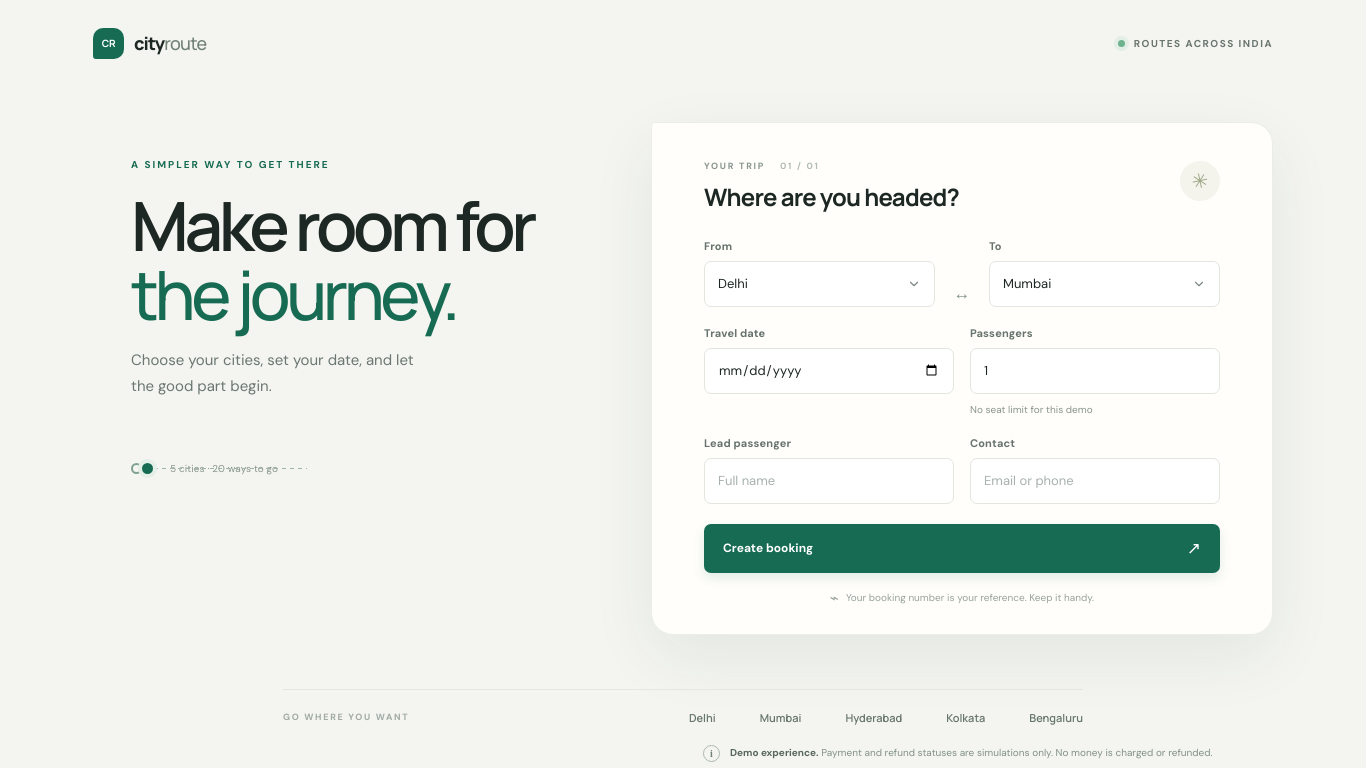
Test: booking interface › shows the opaque booking reference and current booking, payment, and refund statuses
The image size is (1366, 768).
Type "2027-03-14" into the date field labelled "Travel date". click: (829, 371)
box: [704, 348, 954, 394]
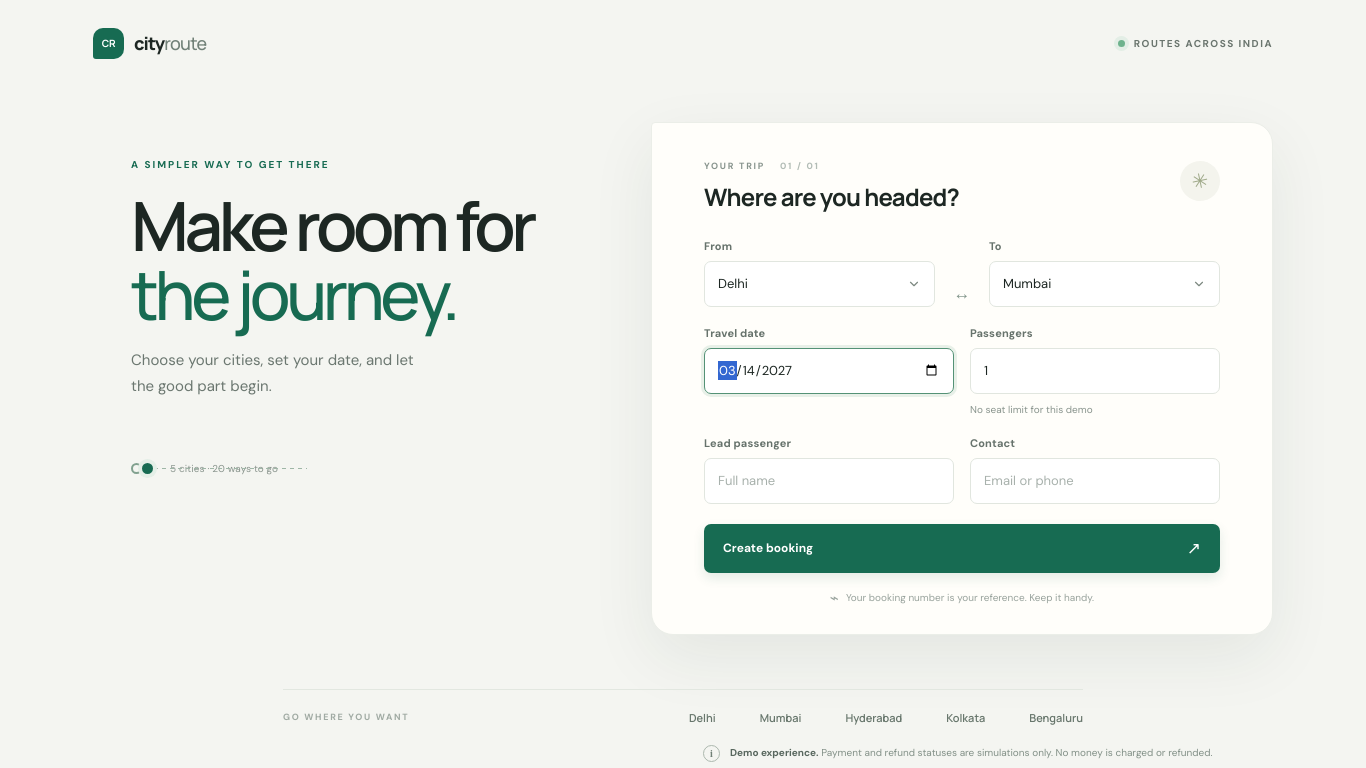
Type "Ada Lovelace" into the field labelled "Lead passenger". click: (829, 481)
box: [704, 458, 954, 504]
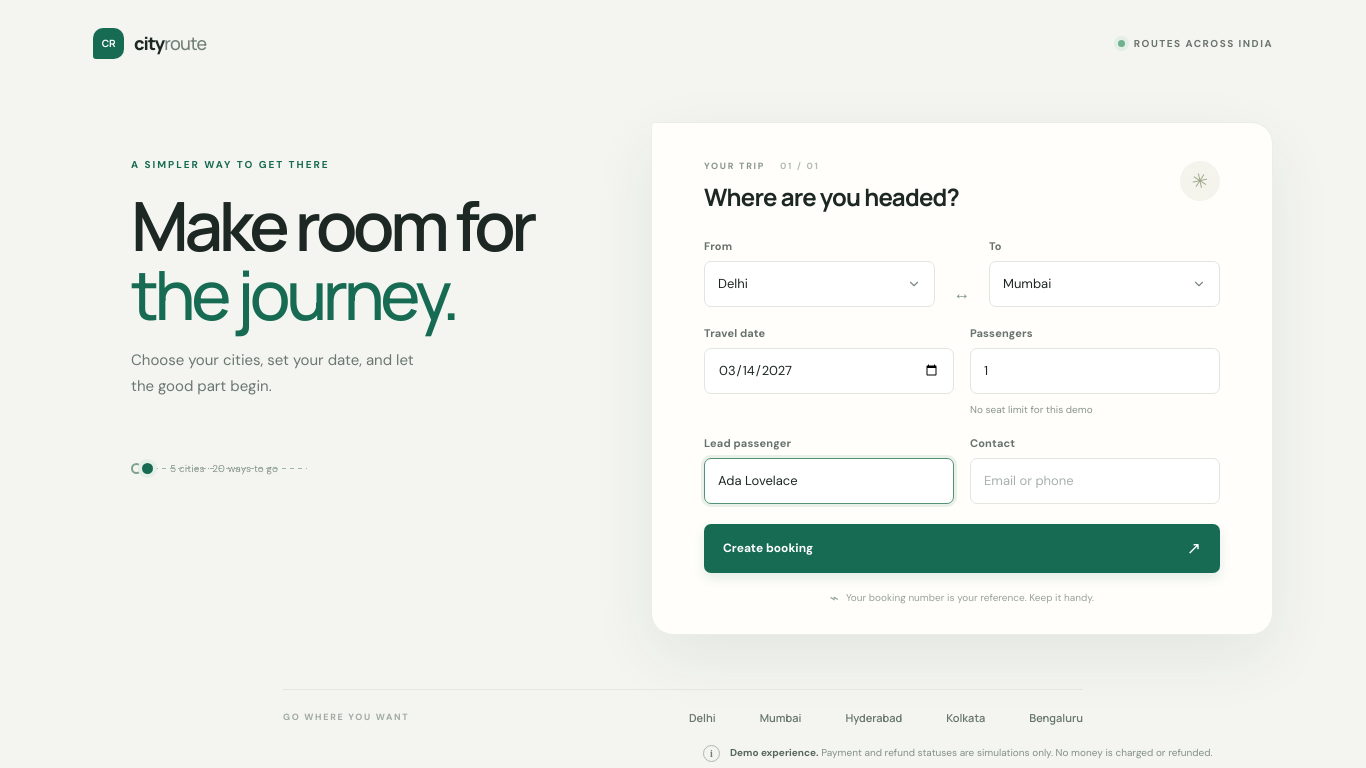
Type "ada@example.test" into the field labelled "Contact". click: (1095, 481)
box: [970, 458, 1220, 504]
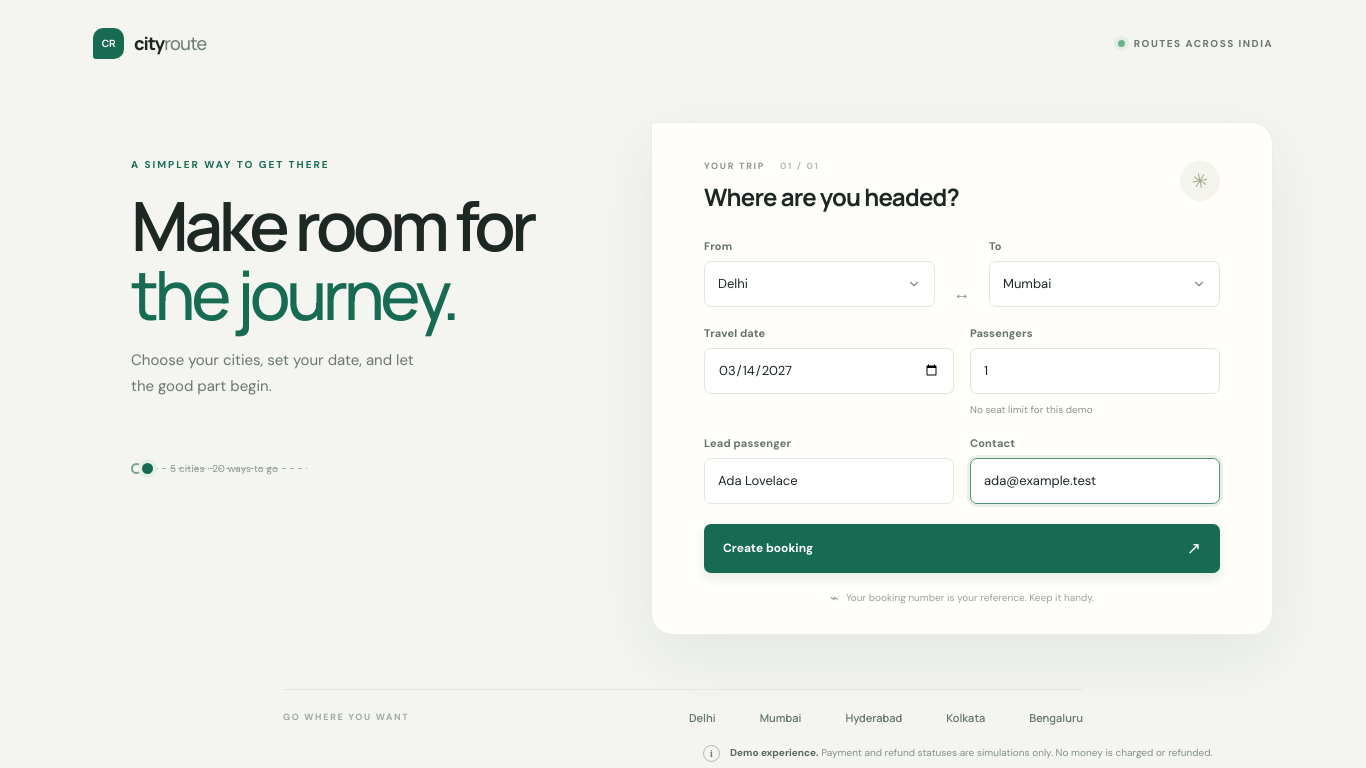
Click the button "Create booking ↗". click: (768, 548)
box: [704, 524, 1220, 573]
(page scrolled)
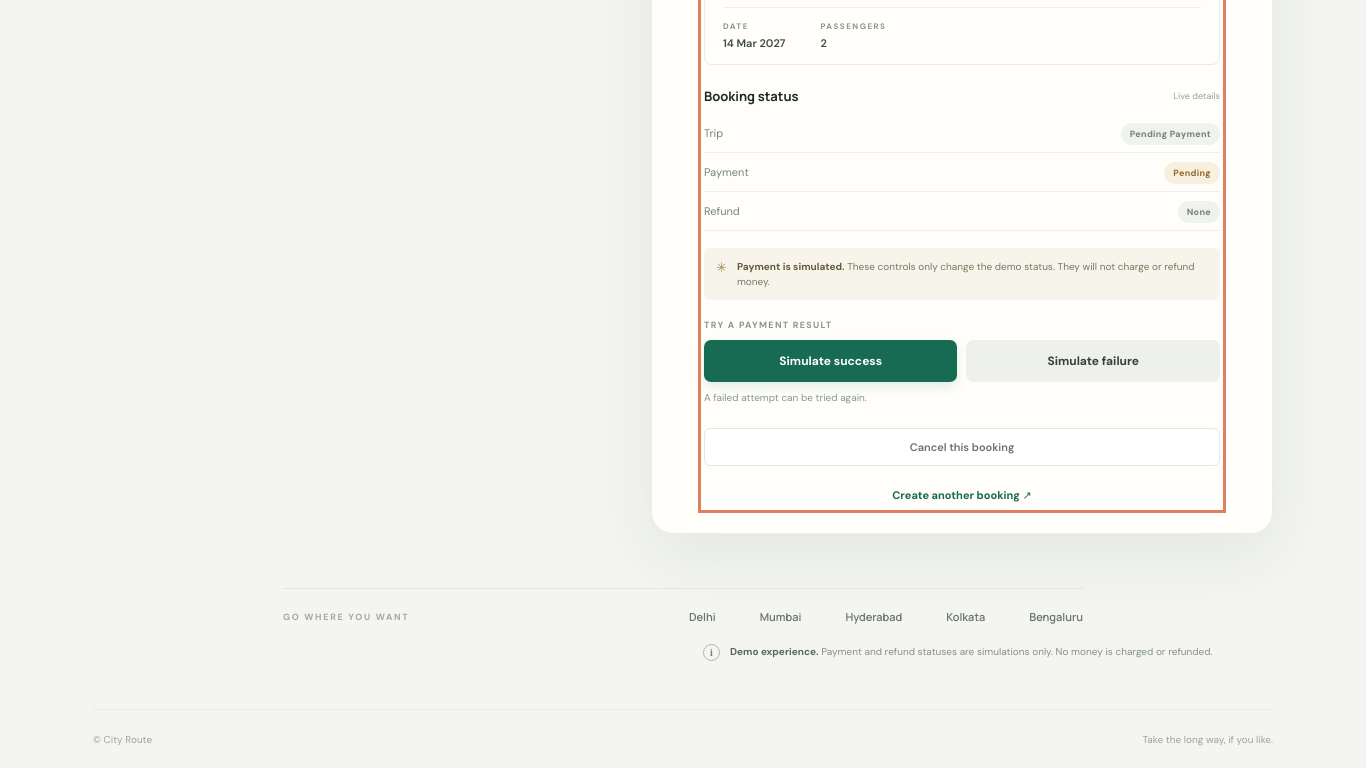
Expected: the text "Pending Payment" is shown, [1121, 123, 1220, 145]
Expected: the text "Pending" is shown, [1164, 162, 1220, 184]
Expected: the text "None" is shown, [1178, 201, 1220, 223]
